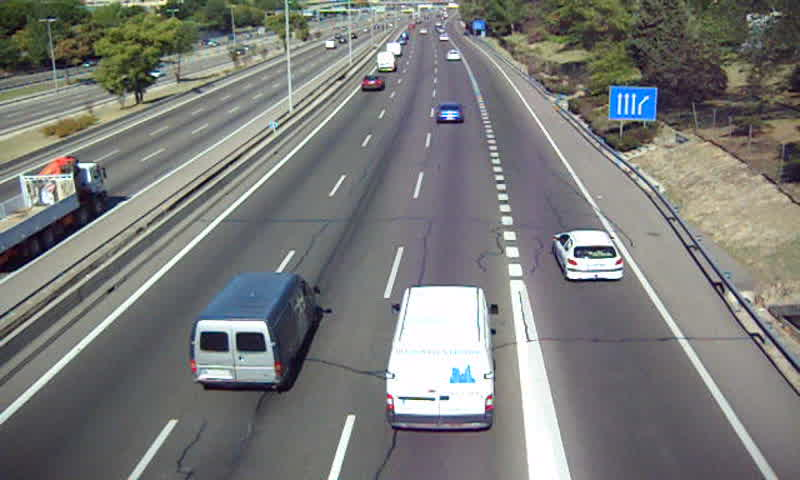car: (552, 229, 624, 283), (434, 102, 466, 124), (360, 74, 385, 92)
van: (385, 286, 496, 434), (192, 272, 321, 389), (375, 52, 397, 72)
